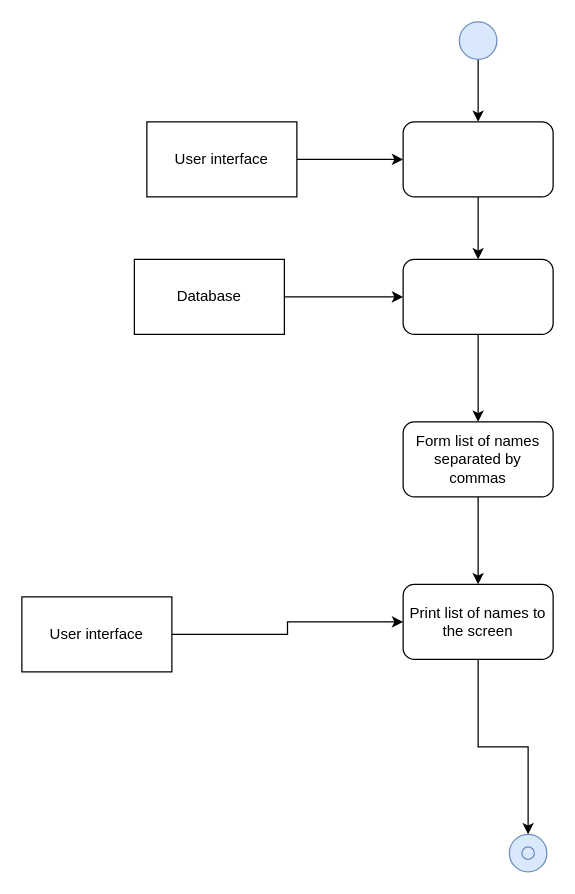
Image size: 575x894. Some labels were removed from this diagram. The shapes that lost their labels are listed below. From the top down, each one's box as (x1, y1, x2, y2) in pixels, then its label:
(402, 121, 553, 197): Enter course id
(402, 258, 553, 334): Query student table for matching course id's
